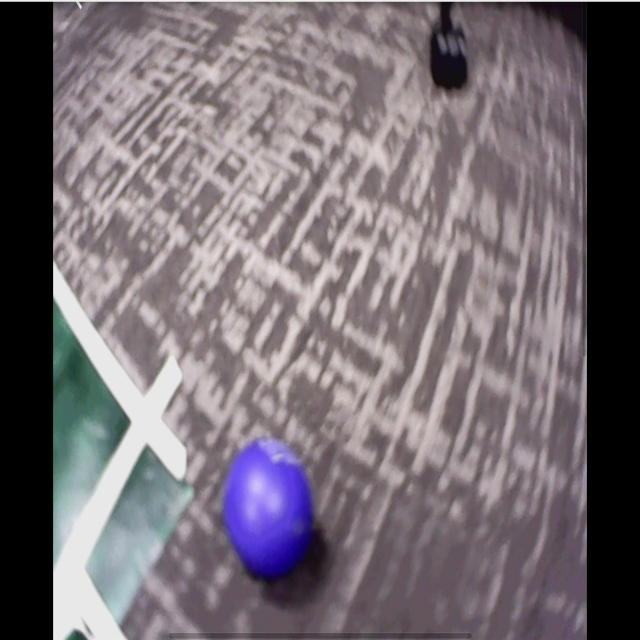ball: (227, 437, 316, 585)
